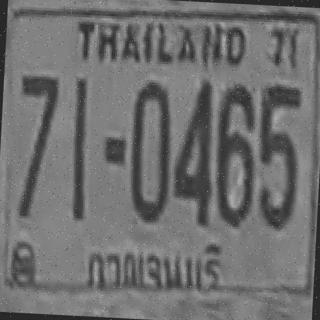N00: (127, 79, 172, 221)
N04: (171, 78, 215, 222), (172, 78, 214, 210)
N05: (254, 84, 301, 228), (255, 82, 300, 207)
N06: (213, 81, 257, 225)
N07: (14, 73, 58, 215), (15, 73, 58, 182)
